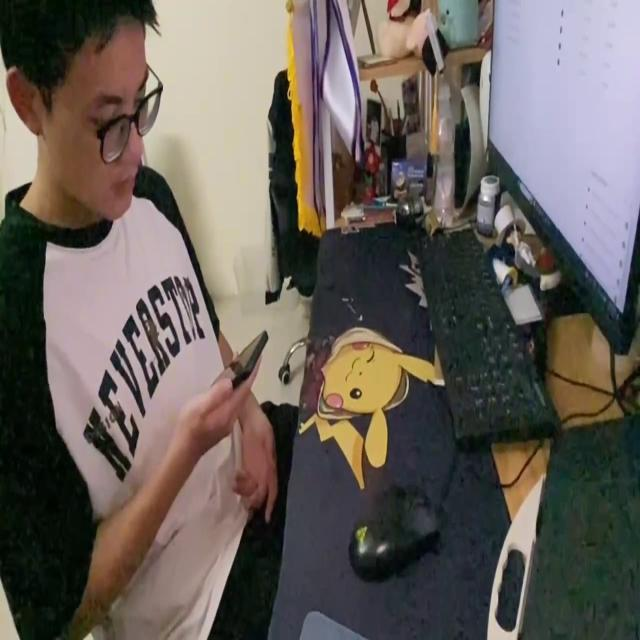laptop: (486, 0, 640, 358)
phone: (211, 330, 268, 390)
student: (1, 6, 291, 640)
